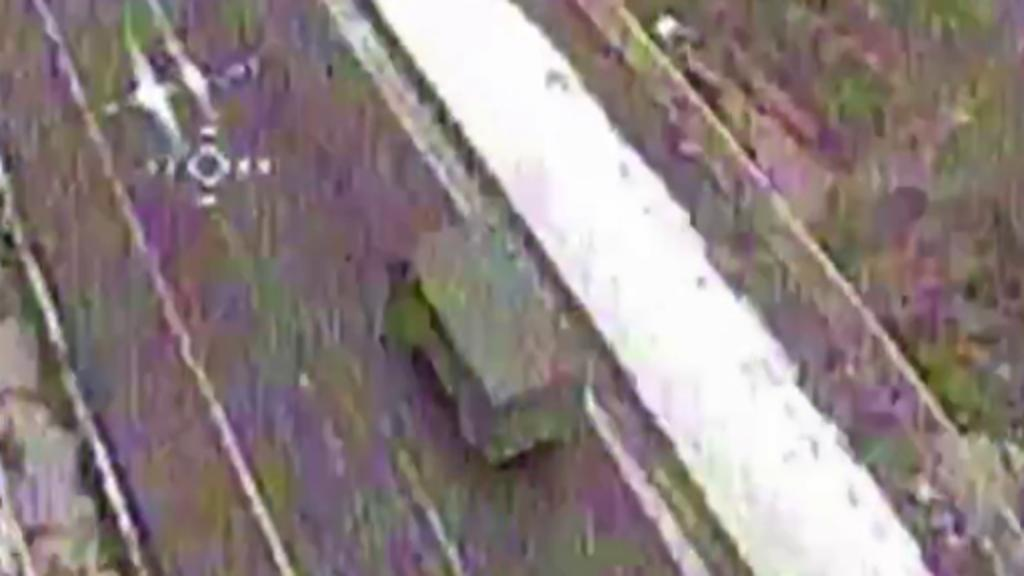CAR: (392, 219, 580, 462)
